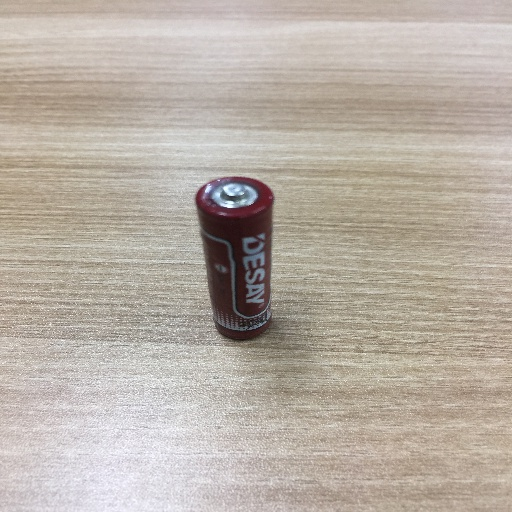Battery_0: (184, 163, 285, 357)
